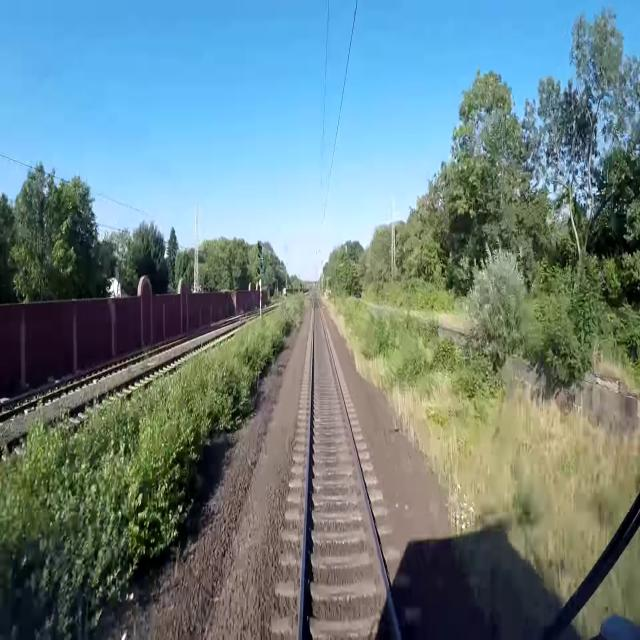rail-track: (303, 292, 398, 639), (117, 335, 227, 391), (0, 370, 101, 412)
